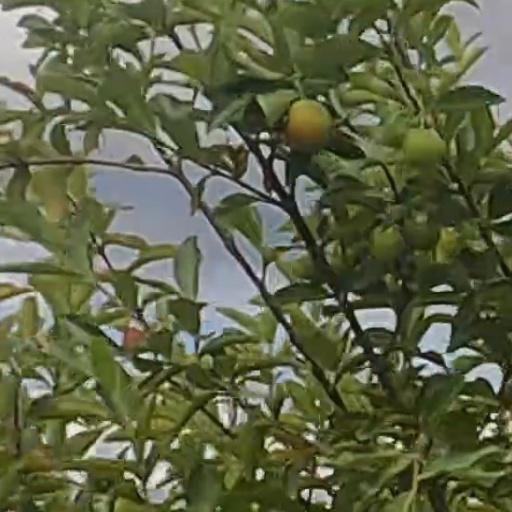acerola: (290, 102, 328, 146), (371, 224, 405, 260), (404, 128, 443, 156)
